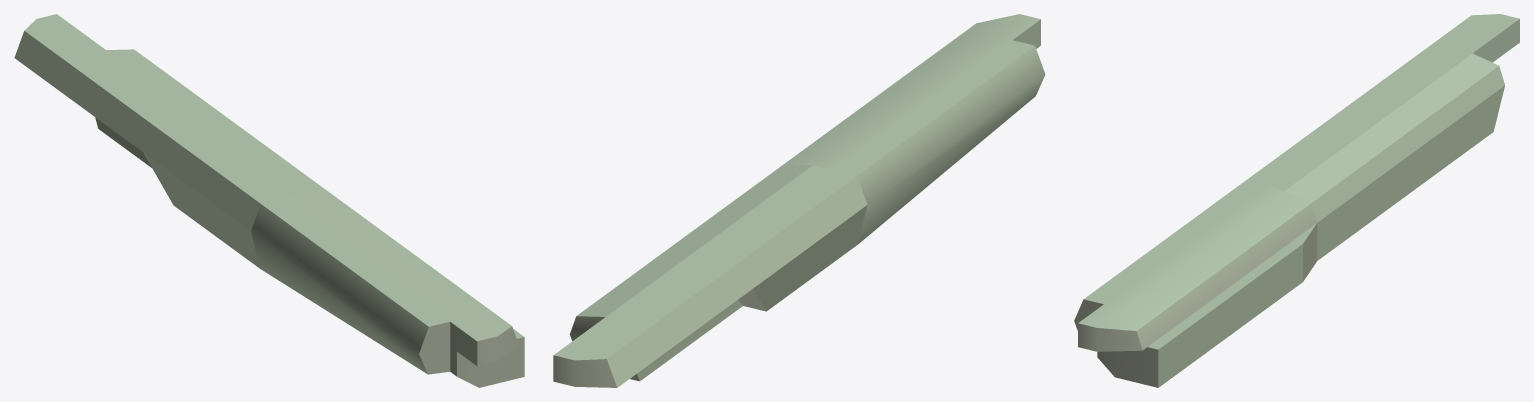
The model's file is geology-crystals-crystalshard_v1.glb.
3 renders of one model, left to right at view 1: azimuth 30°, elevation 25°; view 2: azimuth 150°, elevation 25°; view 3: azimuth 330°, elevation 25°, orthographic. The views are drawn at different scales.
Parts seen in each view (by area): view 1: CrystalShard_v1; view 2: CrystalShard_v1; view 3: CrystalShard_v1.
Part boxes in pixels (bbox=[...]): CrystalShard_v1: bbox=[14, 14, 524, 387]; CrystalShard_v1: bbox=[553, 14, 1045, 387]; CrystalShard_v1: bbox=[1074, 14, 1519, 387].
Bounding box in the file's own units: 2.38 × 1.52 × 18.74.
